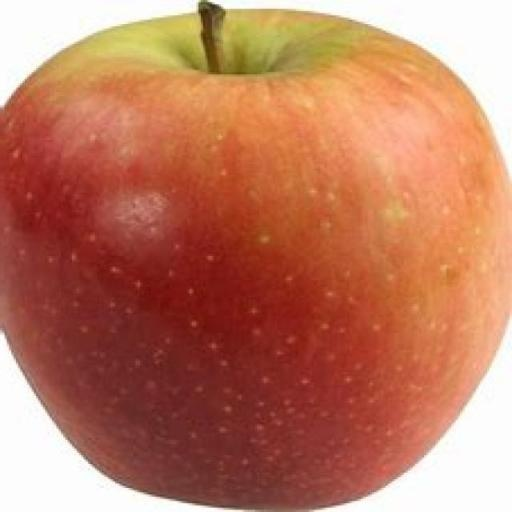fruit: (0, 4, 511, 509)
